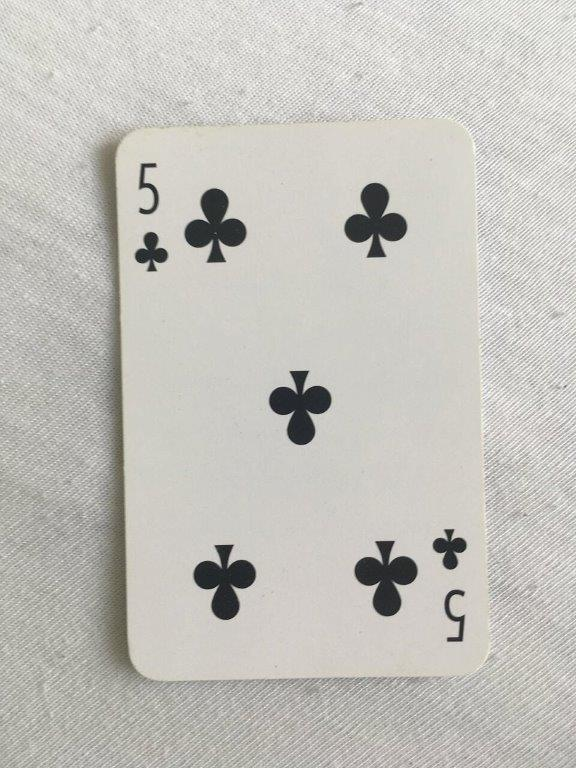5C: (112, 115, 494, 682)
